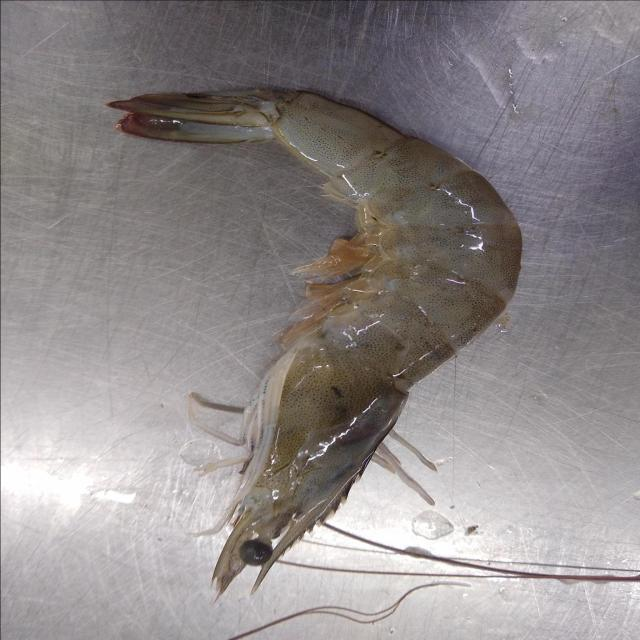shrimp: (107, 89, 523, 595)
